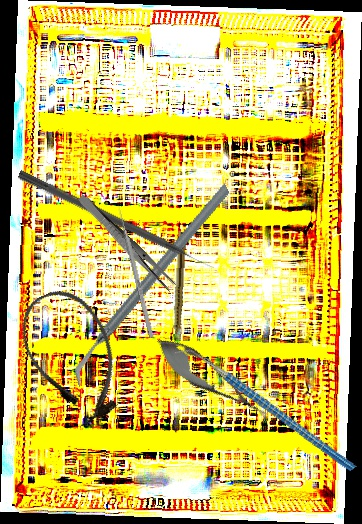Cannula: (8, 278, 137, 435)
Chopper: (26, 182, 278, 388), (172, 304, 358, 516)
Dressing Forceps: (74, 192, 178, 294)
Handpiece: (170, 231, 187, 343)
Micro Scissor: (147, 328, 276, 430)
Pusher: (16, 169, 216, 275), (115, 202, 155, 339)
